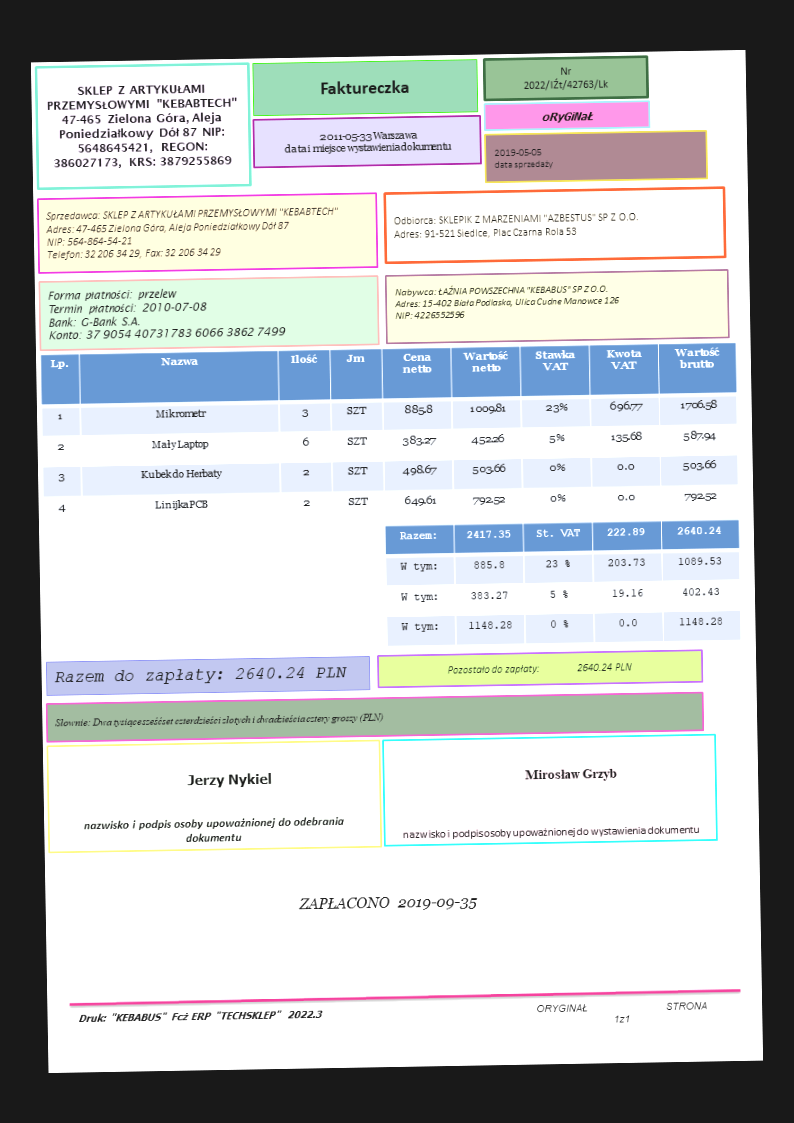Table: (38, 341, 741, 527), (384, 518, 742, 647)
TextBox: (43, 80, 241, 170), (42, 204, 339, 263), (44, 285, 287, 343), (391, 281, 620, 322), (391, 208, 640, 241), (52, 711, 385, 732), (52, 663, 348, 686), (281, 126, 455, 156), (533, 999, 710, 1026), (77, 1006, 324, 1025), (295, 892, 479, 915), (445, 660, 633, 677), (522, 62, 611, 93), (317, 77, 410, 98), (184, 770, 274, 790), (491, 145, 557, 172), (523, 766, 618, 783), (539, 107, 597, 124)
